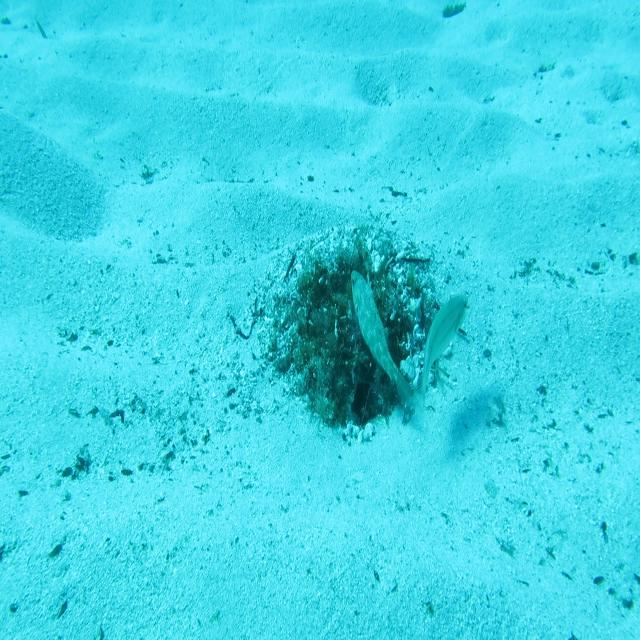FAN: (349, 267, 414, 414)
core_nest: (329, 270, 375, 320)
female: (412, 291, 470, 425)
nest: (248, 205, 474, 459)
vegetation: (441, 0, 468, 21)
